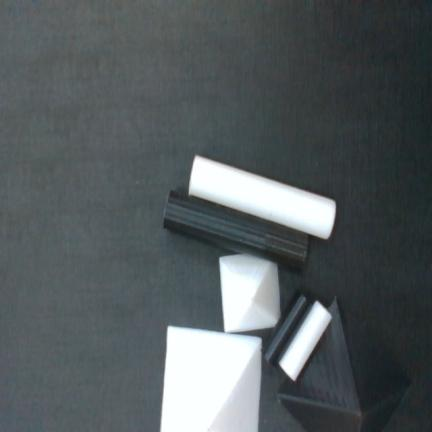Cilindro: (189, 156, 336, 241), (164, 190, 309, 271), (278, 300, 334, 383), (261, 290, 312, 368)
Piramide: (274, 295, 417, 431), (160, 325, 263, 431), (219, 253, 281, 334)
